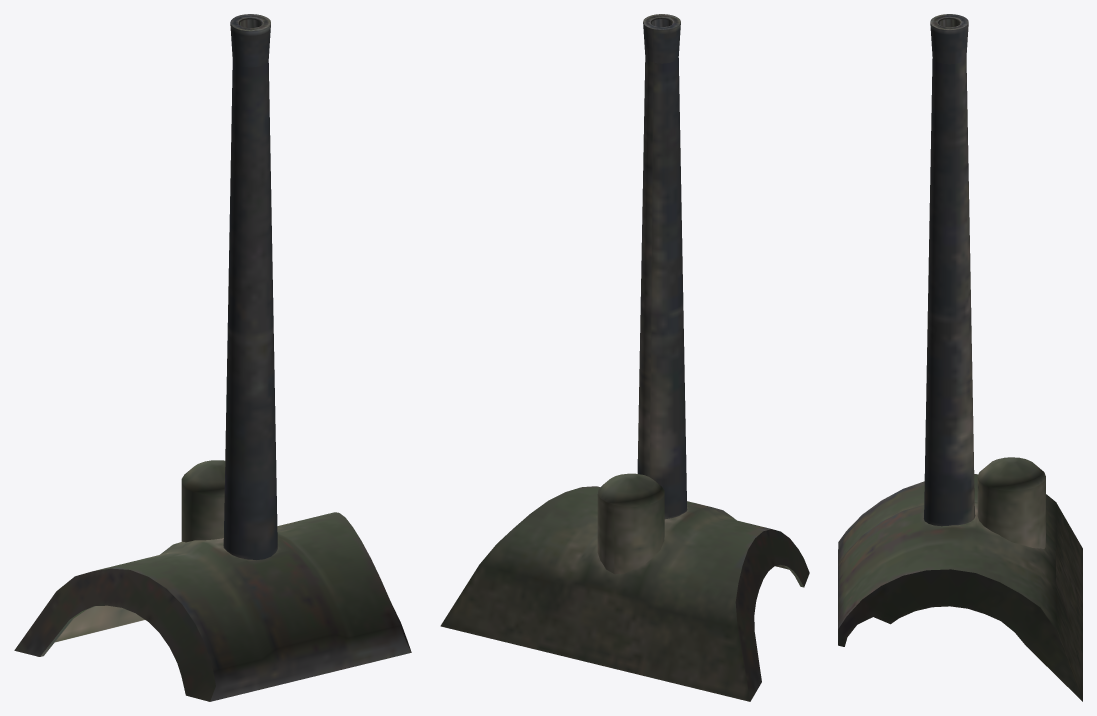
Rendered from Gun_06.glb.
The picture shows the model from 3 angles, left to right: view 1: azimuth 30°, elevation 25°; view 2: azimuth 150°, elevation 25°; view 3: azimuth 270°, elevation 25°; orthographic projection. The views are drawn at different scales.
Parts seen in each view (by area): view 1: set_0_group_0; view 2: set_0_group_0; view 3: set_0_group_0.
Part boxes in pixels (box(x1,y1,x2,y2)): set_0_group_0: box(14, 14, 411, 701); set_0_group_0: box(440, 14, 809, 701); set_0_group_0: box(838, 14, 1082, 701).
Size of the model in its own units: 0.6457 by 1.18 by 0.4353.
1 material, 1 textured.
